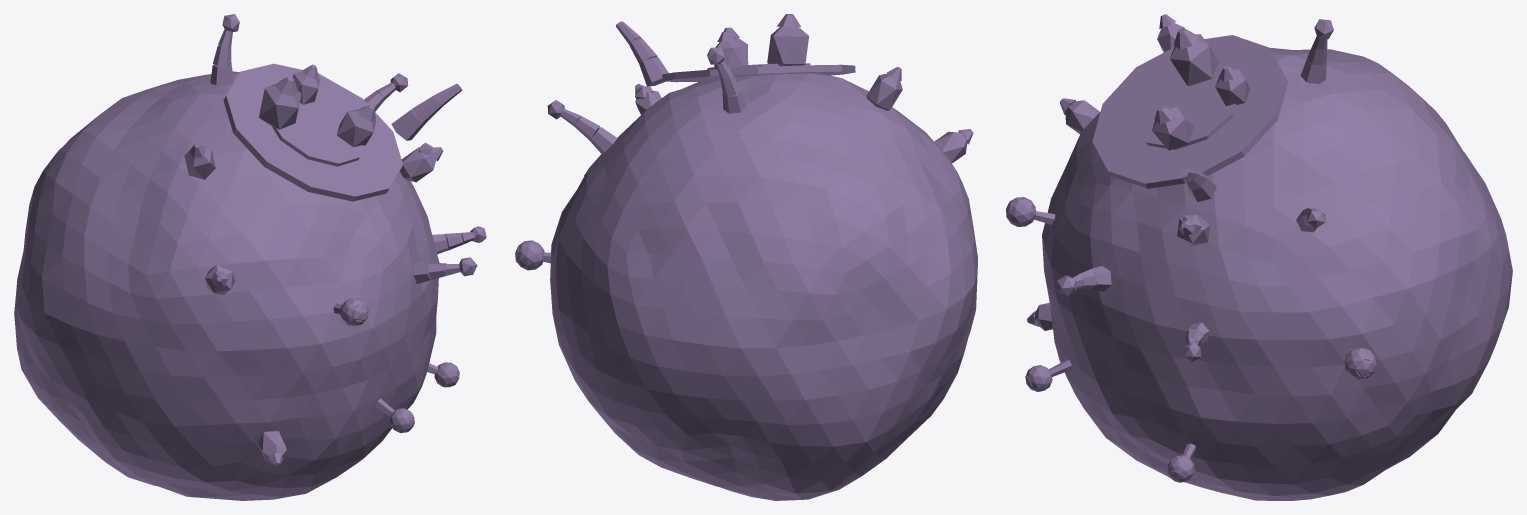
File: Alien_08.fbx
3 views of the same model, side by side, from view 1: azimuth 30°, elevation 25°; view 2: azimuth 150°, elevation 25°; view 3: azimuth 270°, elevation 25° (orthographic). The views are drawn at different scales.
Visible parts, largest first — view 1: Alien_08; view 2: Alien_08; view 3: Alien_08.
Boxes of the visible parts, box(x1,y1,x2,y2) form: Alien_08: box(14, 14, 486, 500); Alien_08: box(515, 14, 977, 500); Alien_08: box(1006, 14, 1512, 500).
Size of the model in its own units: 6.63 by 6.85 by 6.6.
